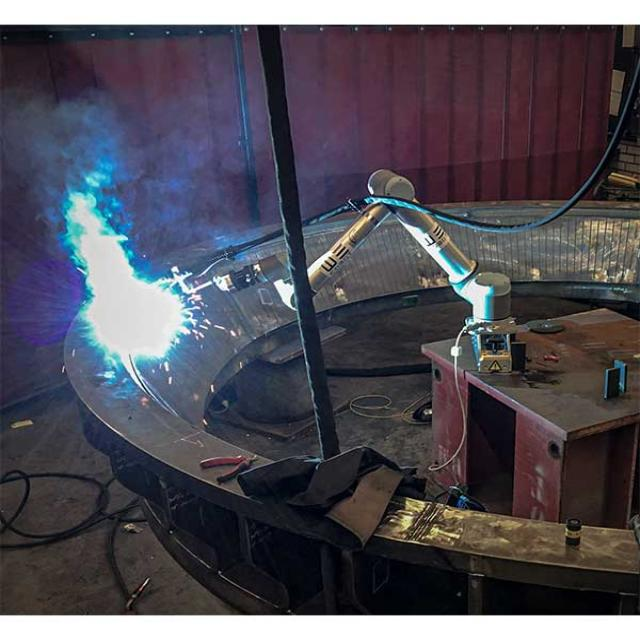welding: (87, 273, 192, 363)
